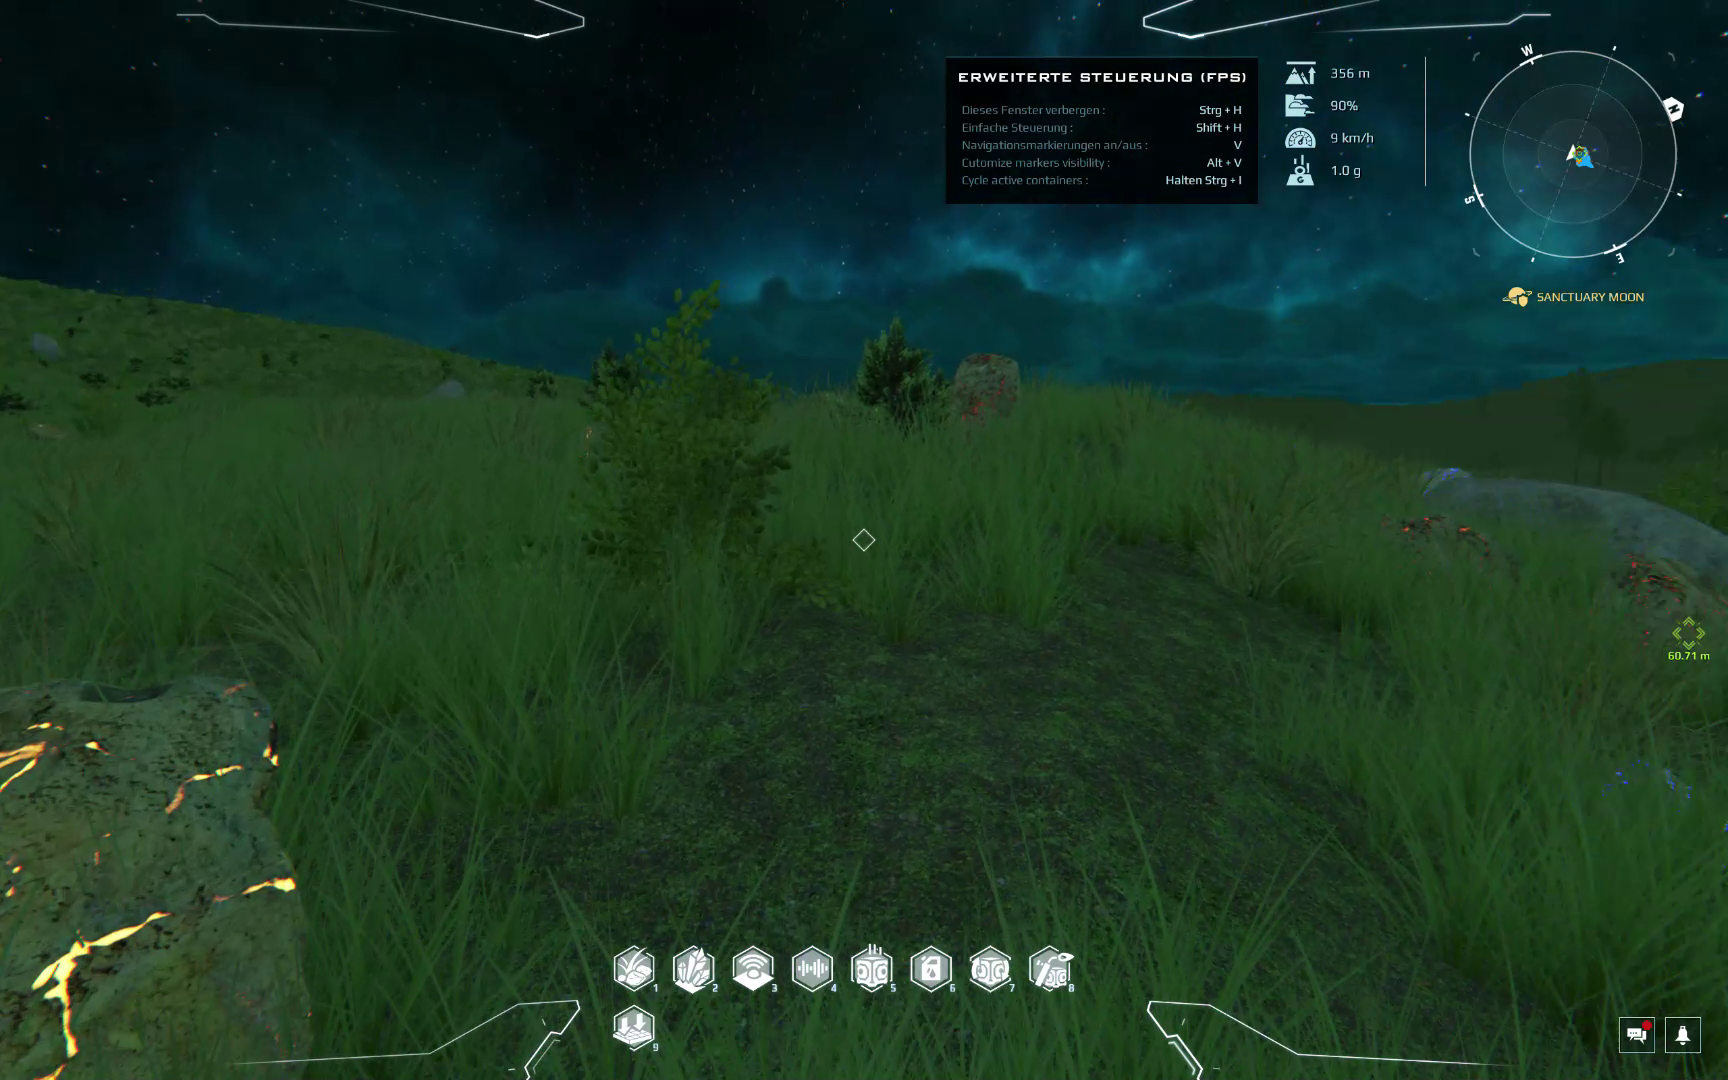Ore: (4, 671, 321, 1080), (1590, 547, 1728, 684), (1373, 511, 1519, 587), (949, 348, 1028, 431), (1604, 747, 1703, 810), (1411, 452, 1479, 501), (569, 417, 622, 462), (22, 416, 73, 445)
